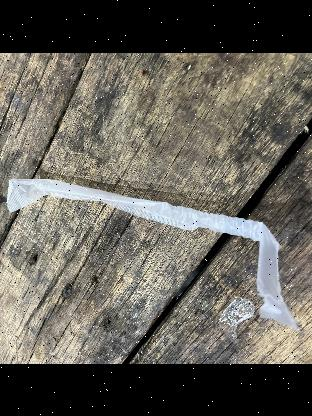Others: (3, 176, 297, 324), (214, 290, 260, 328)
